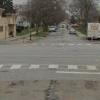Crosswalk: (5, 53, 100, 82)
